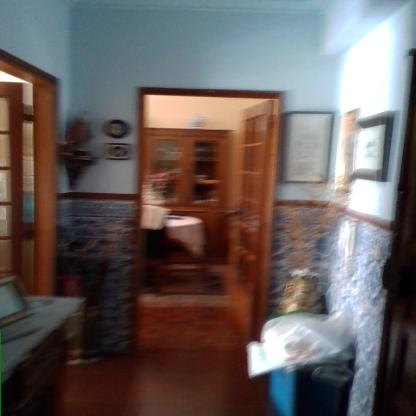open: (126, 83, 282, 351)
